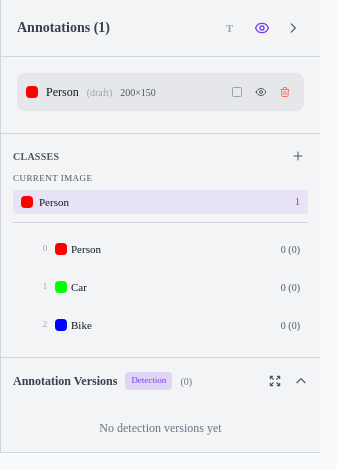
Test: RightPanel - Annotation List Display › Annotation Confirmation › should show loading state during confirmation
Click the button titled "Confirm annotation".
click(237, 92)  # box left=227, top=82, right=247, bottom=102
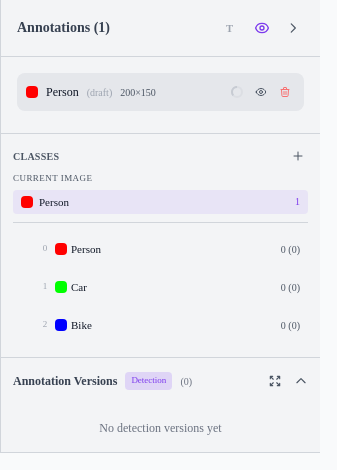
Result: the button titled "Confirm annotation" is disabled at left=227, top=82, right=247, bottom=102
